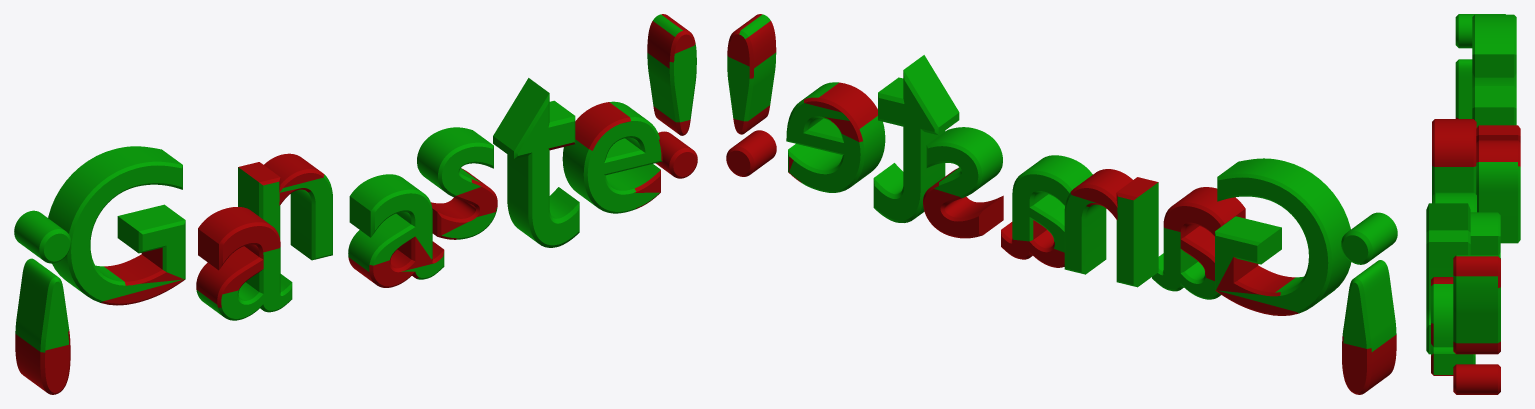
The model's file is Ganaste.obj.
3 renders of one model, left to right at view 1: azimuth 30°, elevation 25°; view 2: azimuth 150°, elevation 25°; view 3: azimuth 270°, elevation 25°, orthographic. The views are drawn at different scales.
Visible parts, largest first — view 1: Texto.001_CUTexto.027, Texto.000_CUTexto.026; view 2: Texto.001_CUTexto.027, Texto.000_CUTexto.026; view 3: Texto.001_CUTexto.027, Texto.000_CUTexto.026.
Part boxes in pixels (x1,y1,x2,y2): Texto.001_CUTexto.027: (14,14,696,352); Texto.000_CUTexto.026: (15,14,697,394); Texto.001_CUTexto.027: (727,14,1397,351); Texto.000_CUTexto.026: (726,14,1396,394); Texto.001_CUTexto.027: (1426,14,1520,374); Texto.000_CUTexto.026: (1431,117,1520,394).
Size of the model in its own units: 3.61 by 1.11 by 0.484.
